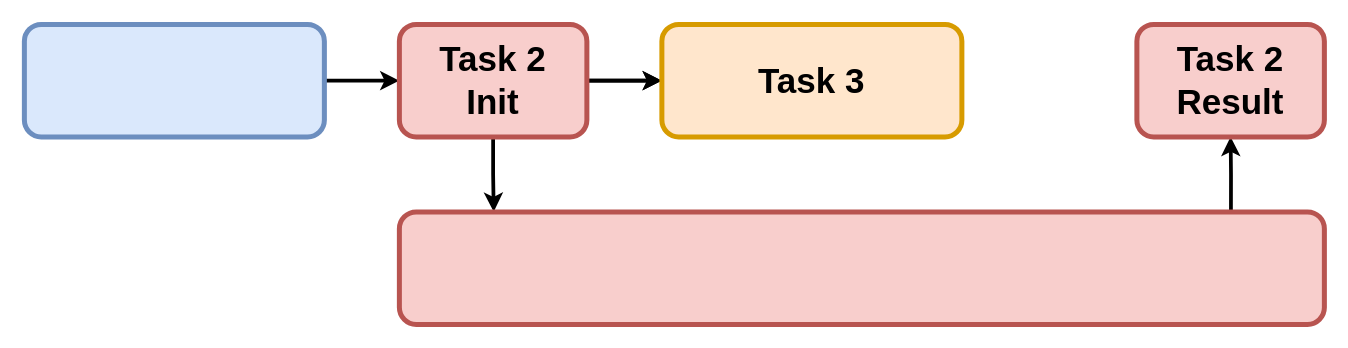
This 1348x348 diagram has some shape labels left out. Here are the shapes that lost their labels. From the top down, the centre of each, then its label:
the point at 173,80: Task 1
the point at 861,267: Task 2
